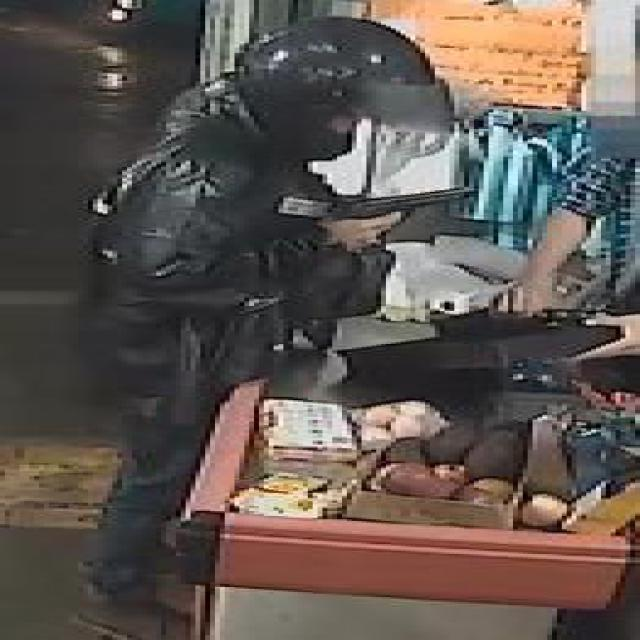Gun: (322, 182, 479, 242)
